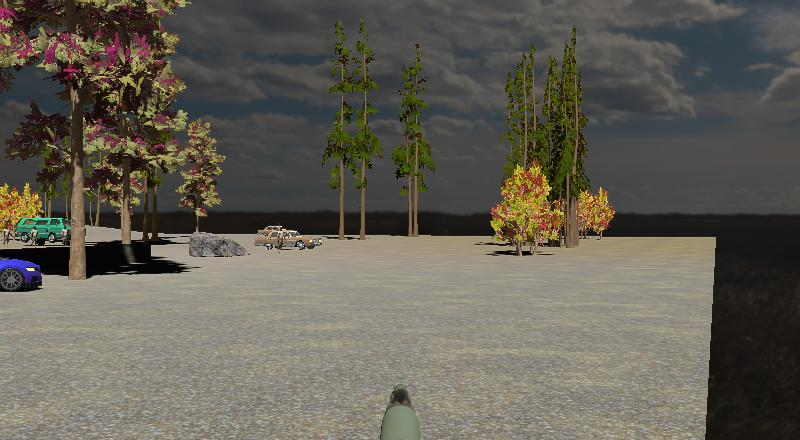car: (0, 244, 44, 295), (15, 216, 78, 244), (253, 226, 320, 252), (14, 217, 77, 244)
